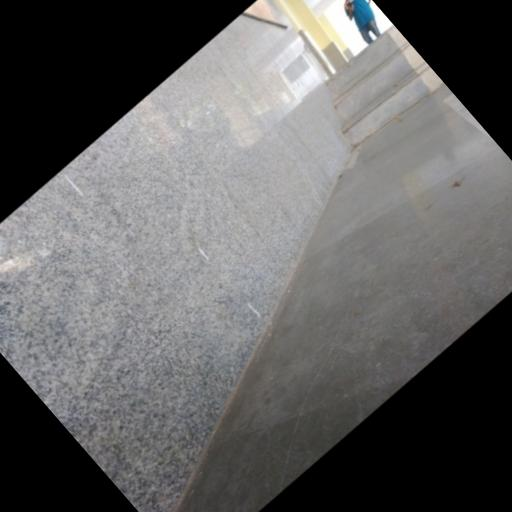stairs: (327, 26, 442, 145)
